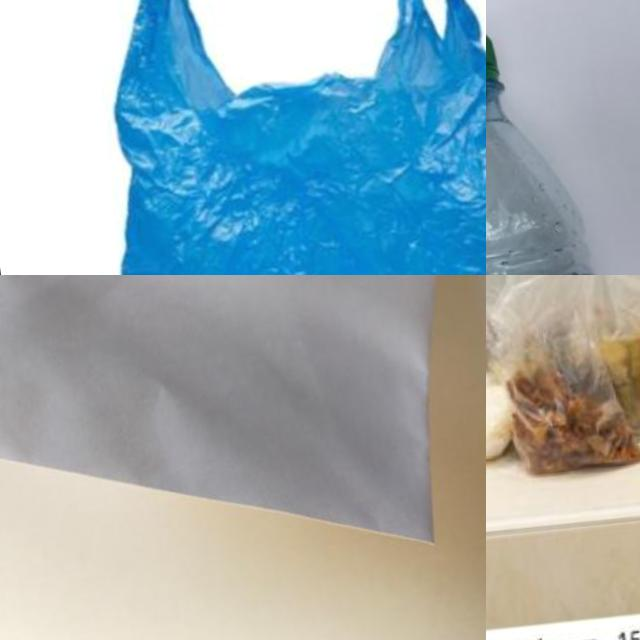garrafa plástica: (486, 75, 633, 275)
papel: (0, 275, 477, 598)
sacola plástica: (63, 0, 486, 275), (486, 275, 640, 513), (554, 275, 640, 456), (486, 275, 592, 402), (486, 307, 514, 514)
